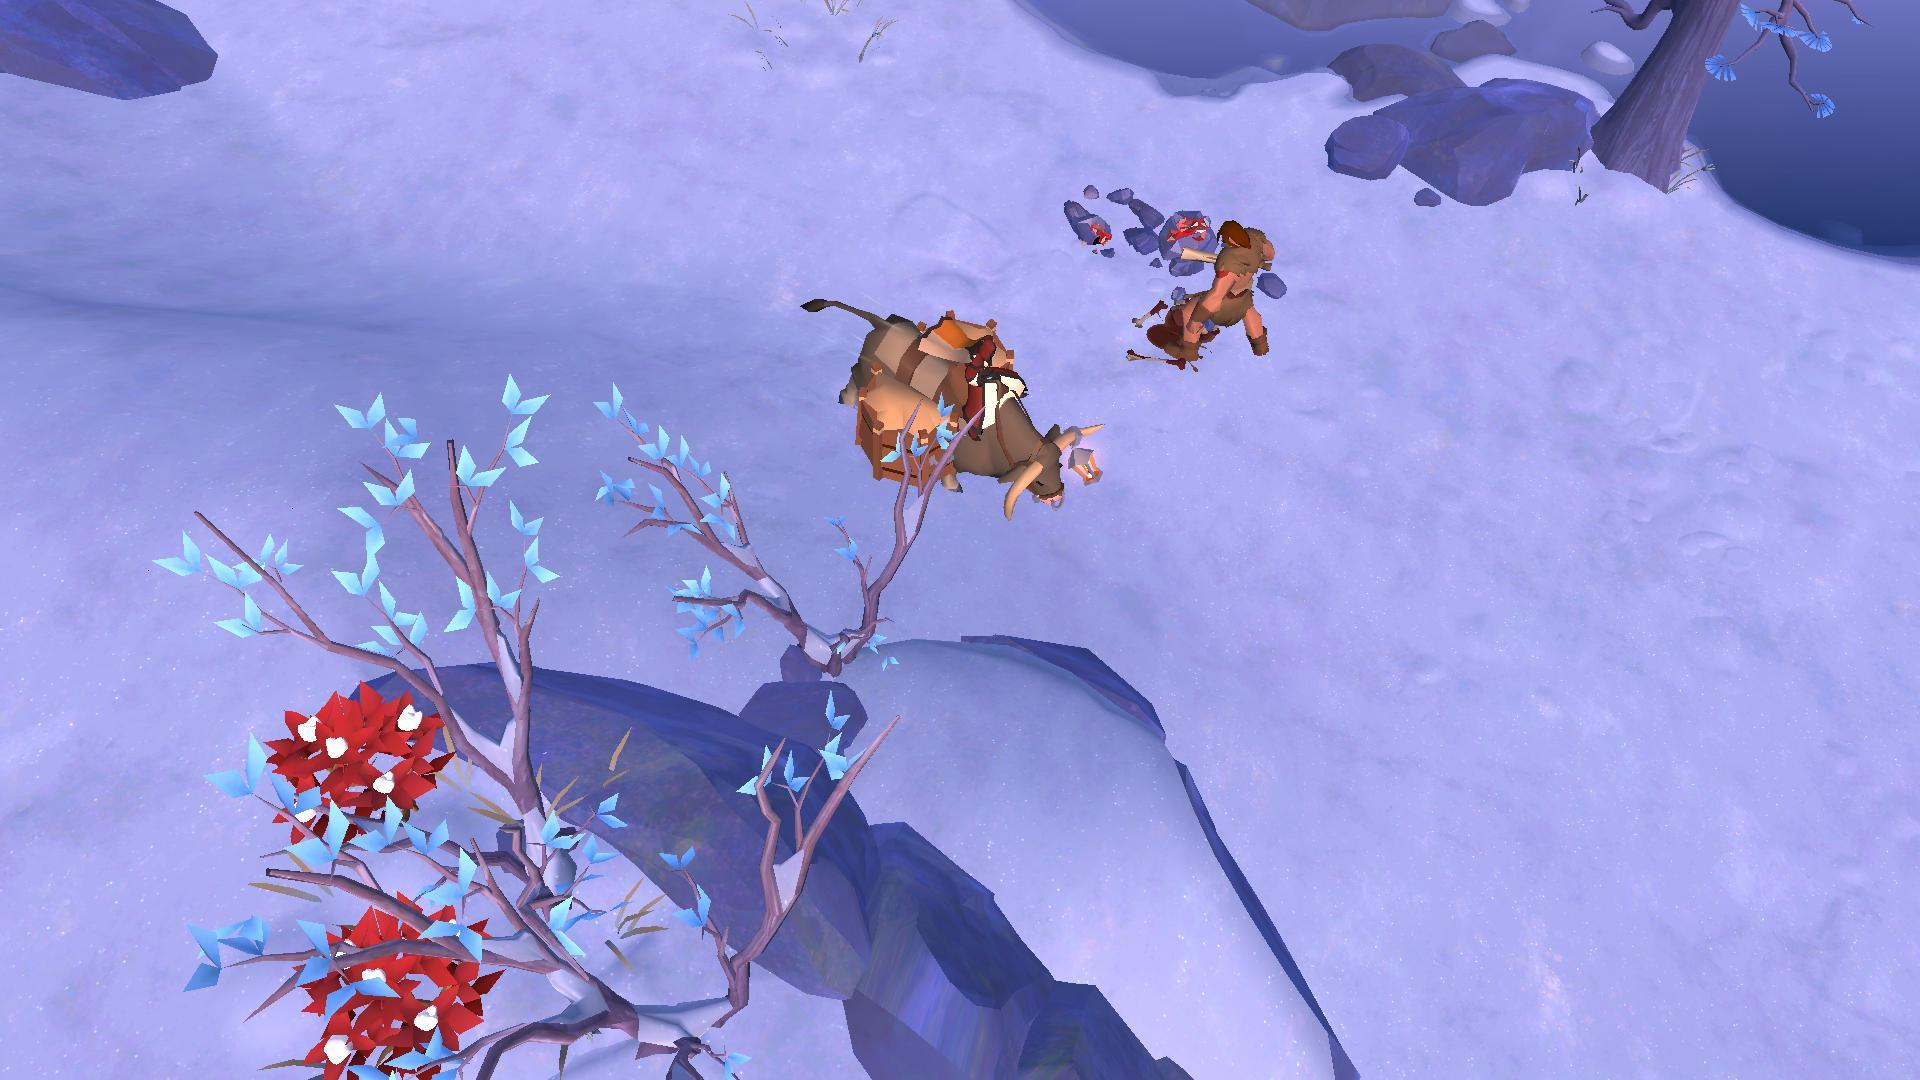enemy_factionKeeper: (1171, 215, 1290, 356)
fiber_t5: (262, 905, 492, 1077), (266, 684, 446, 832)
